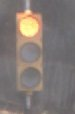Red: (14, 12, 46, 108)
